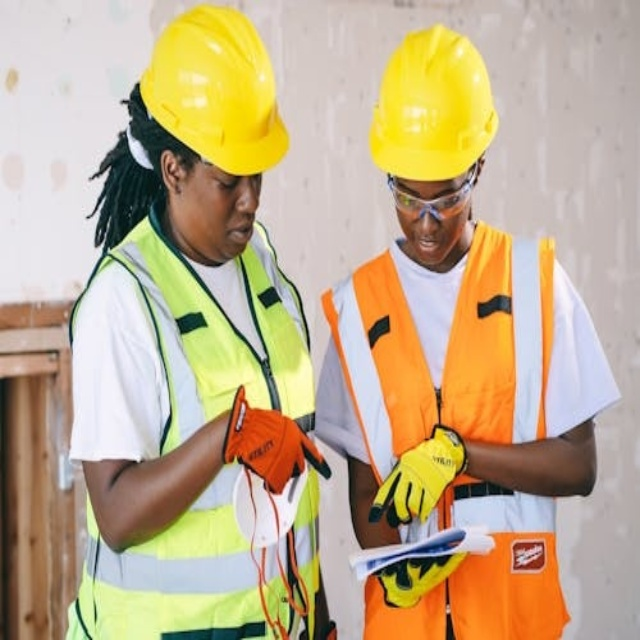Gafas: (385, 171, 471, 220)
Guantes: (222, 386, 330, 496), (369, 425, 467, 527), (379, 549, 467, 609)
Sin_gafas: (200, 172, 266, 196)
Sin_mascara: (209, 215, 248, 259), (406, 229, 448, 265)
